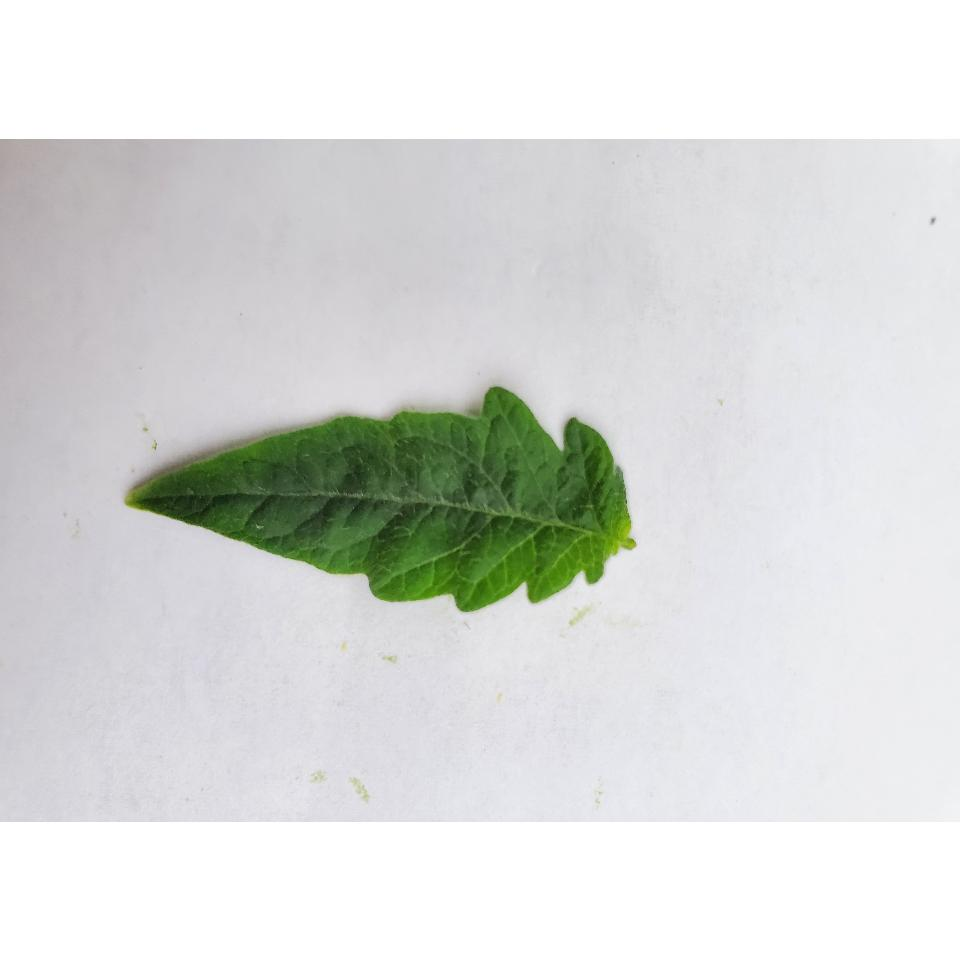tomato_leaves: (123, 385, 634, 602)
